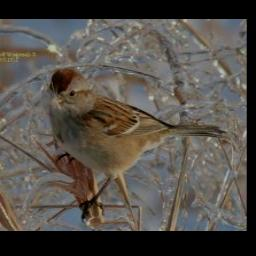Sparrow: (41, 65, 231, 223)
